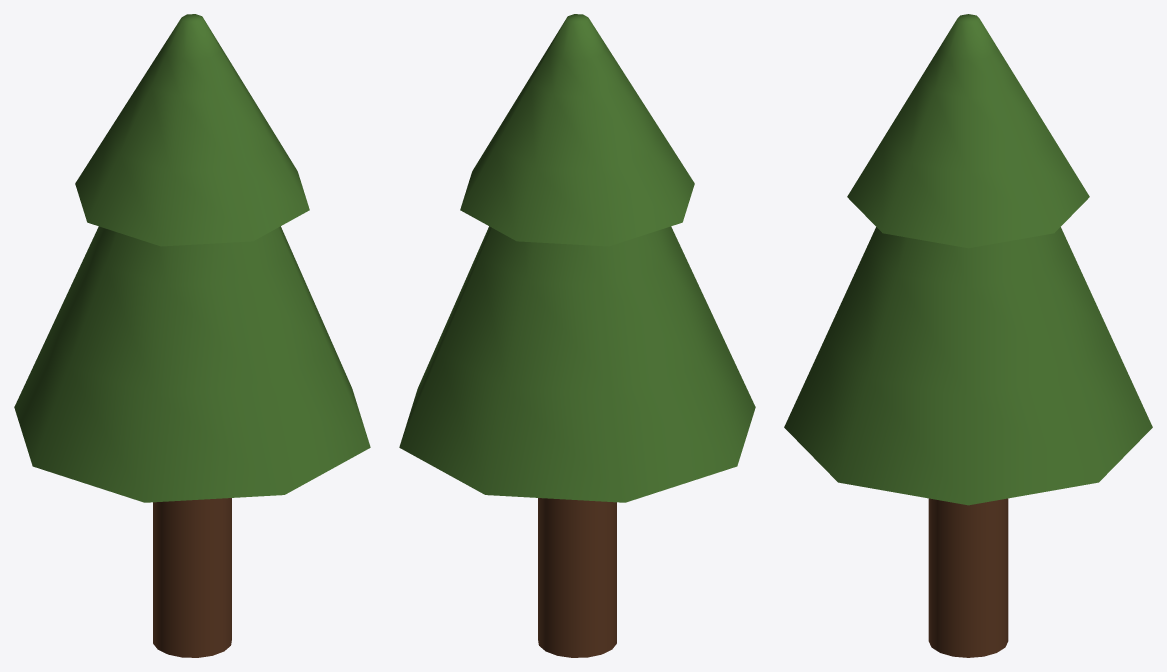
The model's file is lowpolyTree.fbx.
The picture shows the model from 3 angles, left to right: view 1: azimuth 30°, elevation 25°; view 2: azimuth 150°, elevation 25°; view 3: azimuth 270°, elevation 25°; orthographic projection.
Parts seen in each view (by area): view 1: LowpolyTree; view 2: LowpolyTree; view 3: LowpolyTree.
Part boxes in pixels (box(x1,y1,x2,y2)): LowpolyTree: box(14, 14, 370, 657); LowpolyTree: box(399, 14, 755, 657); LowpolyTree: box(784, 14, 1152, 657).
Size of the model in its own units: 6.02 by 11.2 by 6.02.
